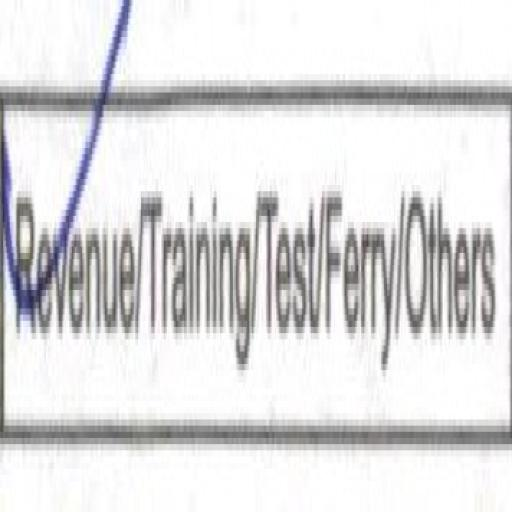check: (0, 55, 137, 438)
